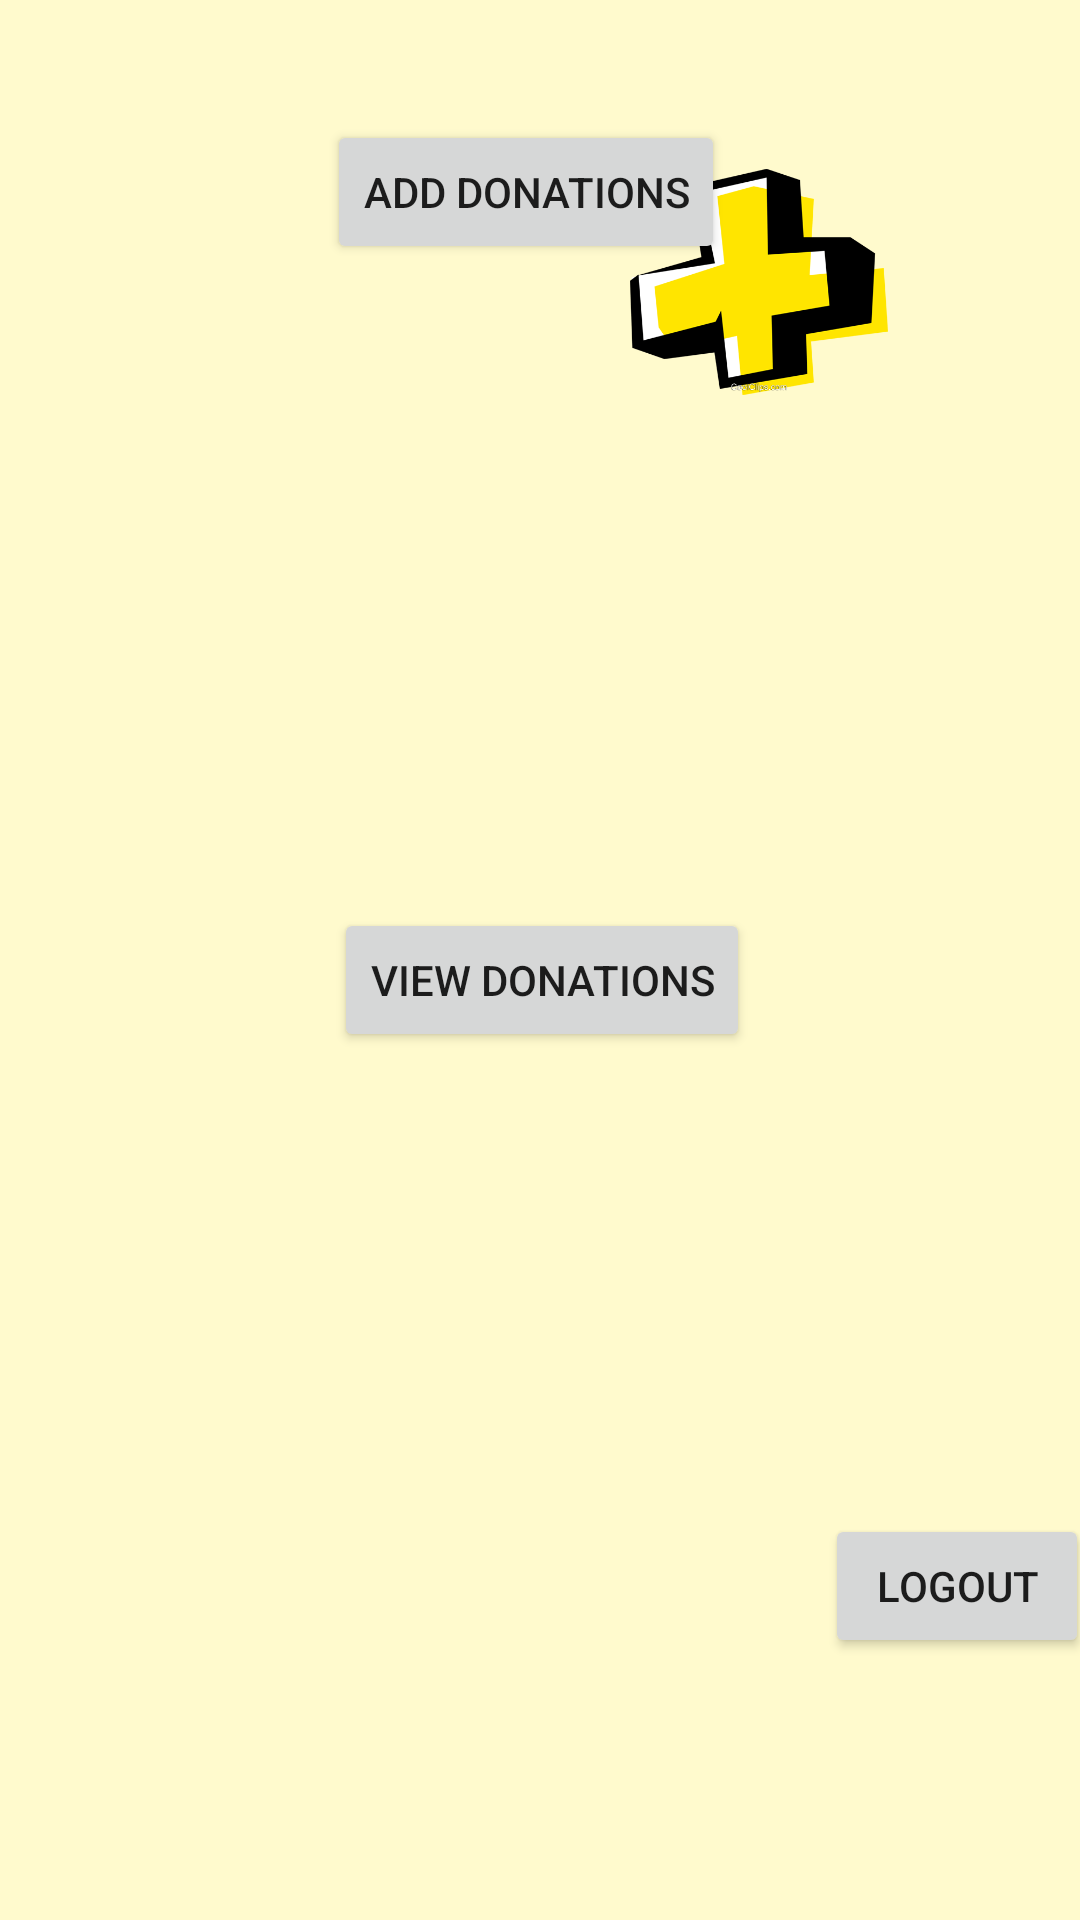

Icon click points for this 1080x1920 phone screenshot, format (x,y):
plust: (759,275)
